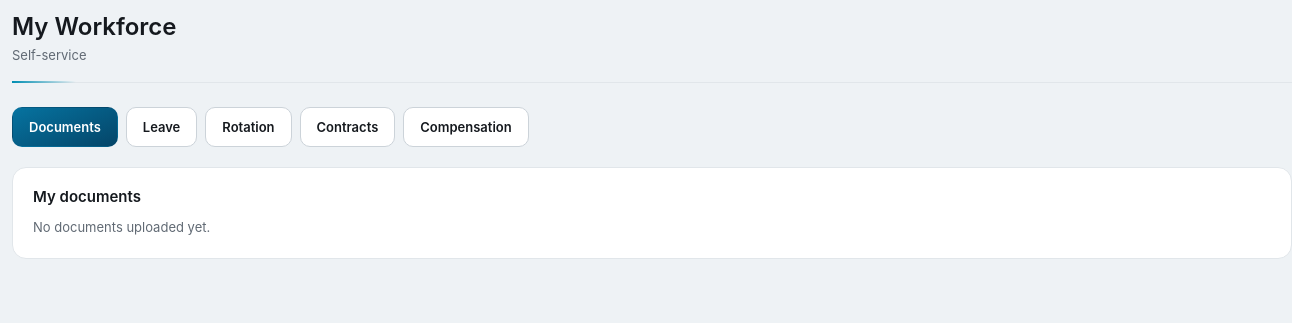
Scenario: MyWorkforcePage Leave tab: view/create/cancel are independently permission-gated › 1. view only: history loads, no leave-types request, no Apply form, no Submit
Click the button "Leave" at (162, 126), box [126, 106, 197, 146]
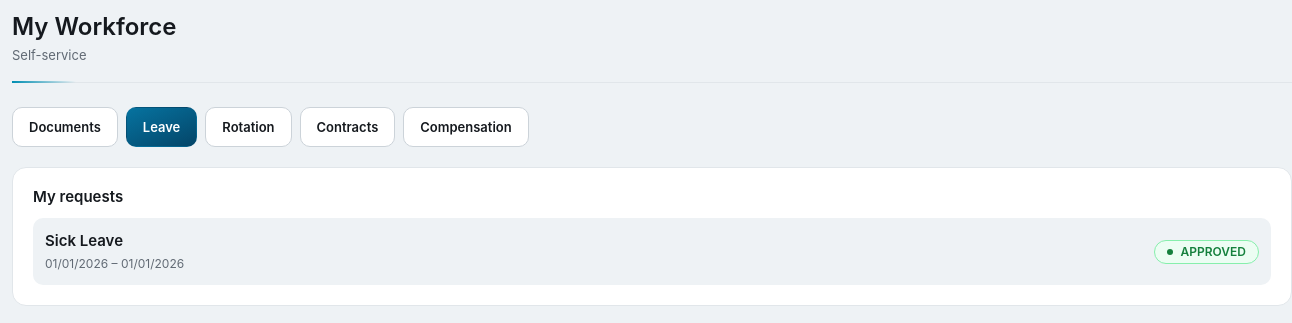
Expected: the heading "My requests" is shown, [33, 186, 123, 206]
Expected: the text "Sick Leave" is shown, [45, 231, 123, 250]
